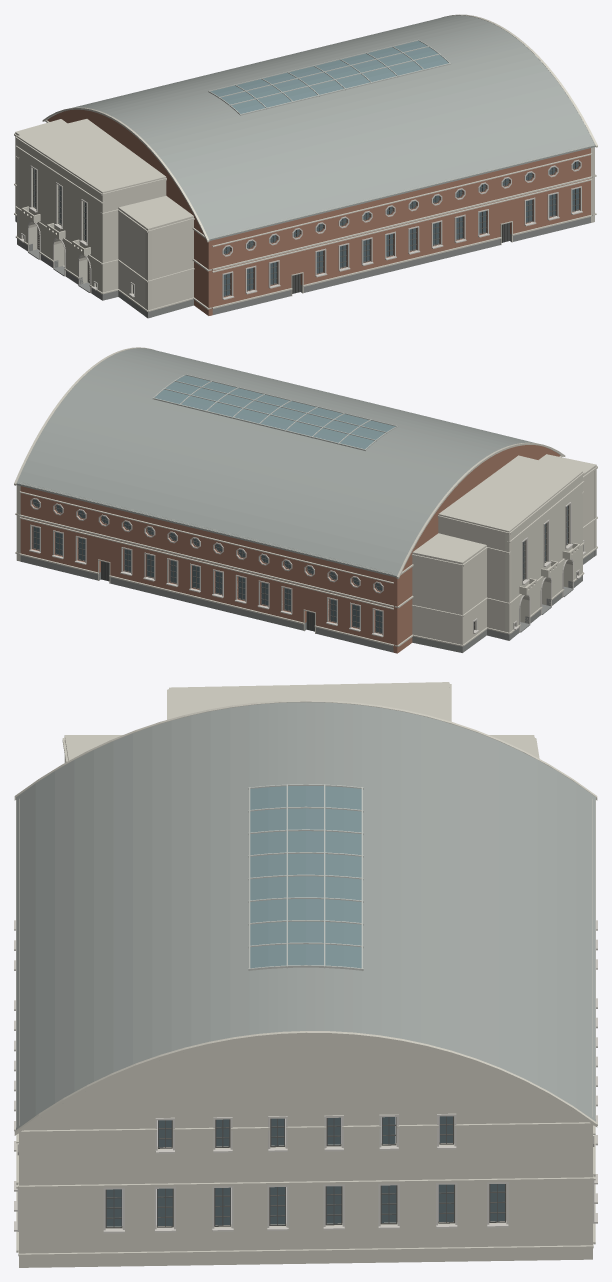
Rendered from yangpu-jiangwan-gymnasium-lod.glb.
3 renders of one model, top to bottom at view 1: azimuth 30°, elevation 25°; view 2: azimuth 150°, elevation 25°; view 3: azimuth 270°, elevation 25°, orthographic. The views are drawn at different scales.
Visible parts, largest first — view 1: 江湾体育馆历史主楼; view 2: 江湾体育馆历史主楼; view 3: 江湾体育馆历史主楼.
Part boxes in pixels (x1=…): 江湾体育馆历史主楼: x1=14, y1=14, x2=597, y2=318; 江湾体育馆历史主楼: x1=14, y1=347, x2=597, y2=653; 江湾体育馆历史主楼: x1=14, y1=682, x2=597, y2=1267.
Size of the model in its own units: 74.11 by 20.17 by 45.65.
